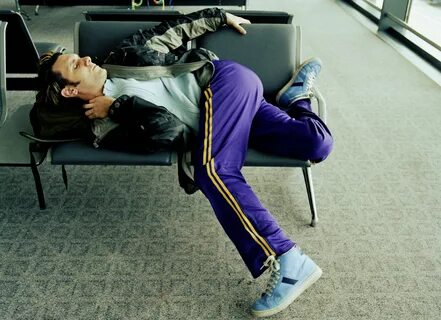sleep: (36, 28, 330, 169)
